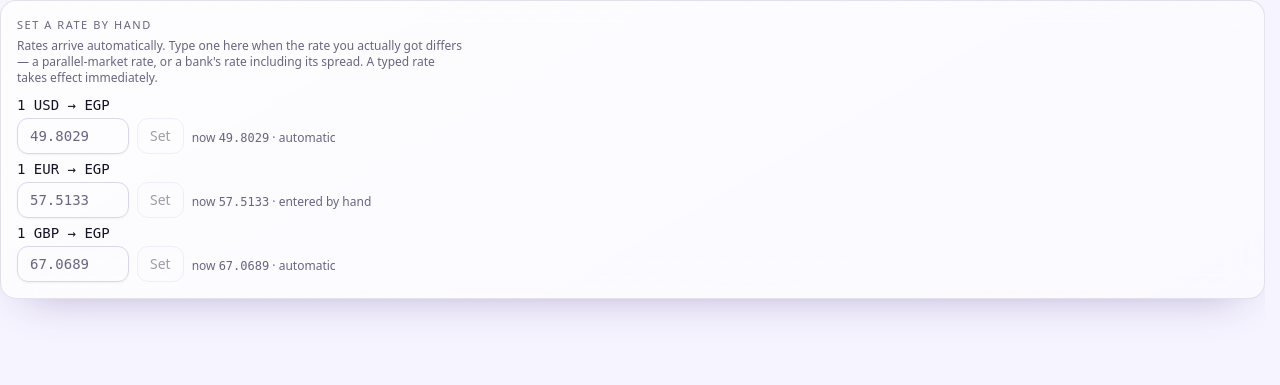
Scenario: when the server refuses › keeps what you typed, so it can be corrected rather than retyped
Type "52.5" into the field labelled "1 USD → EGP" at (73, 136), box x1=17 y1=118 x2=129 y2=154
Then press Enter
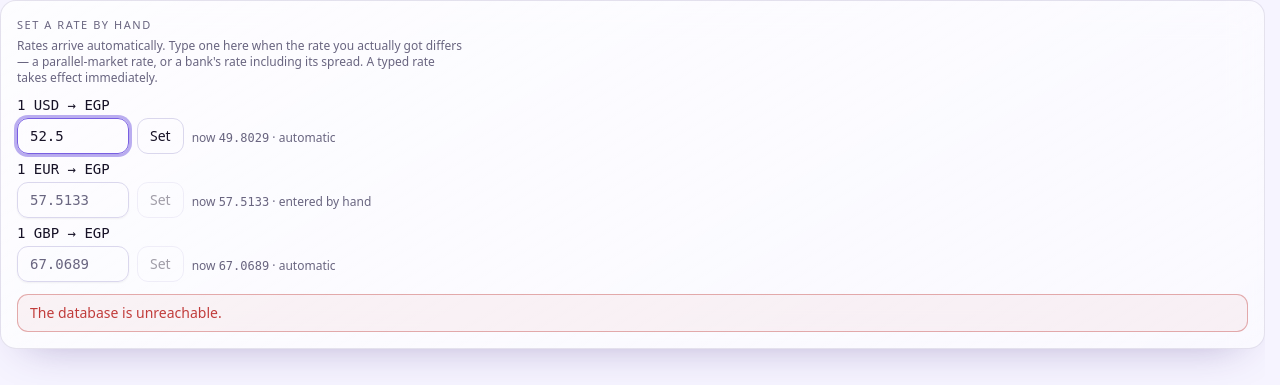
Check: the text "The database is unreachable." is shown, box x1=17 y1=294 x2=1248 y2=332
